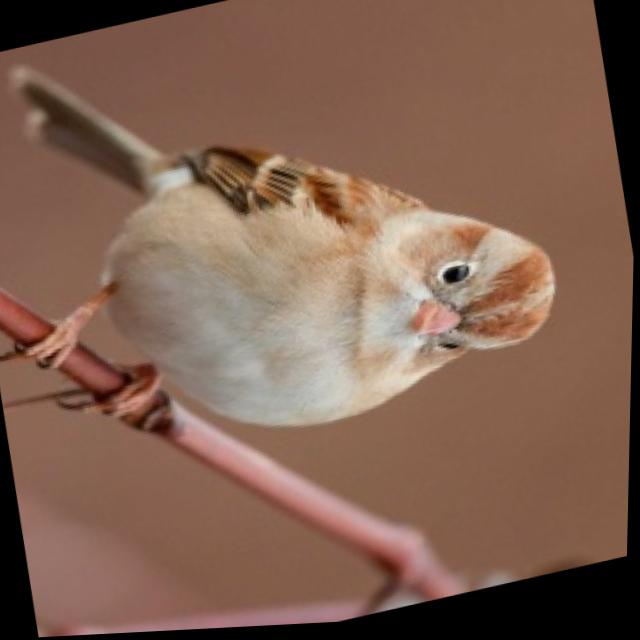sparrow: (0, 0, 582, 500)
